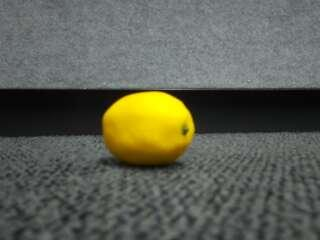lemon: (101, 90, 193, 166)
